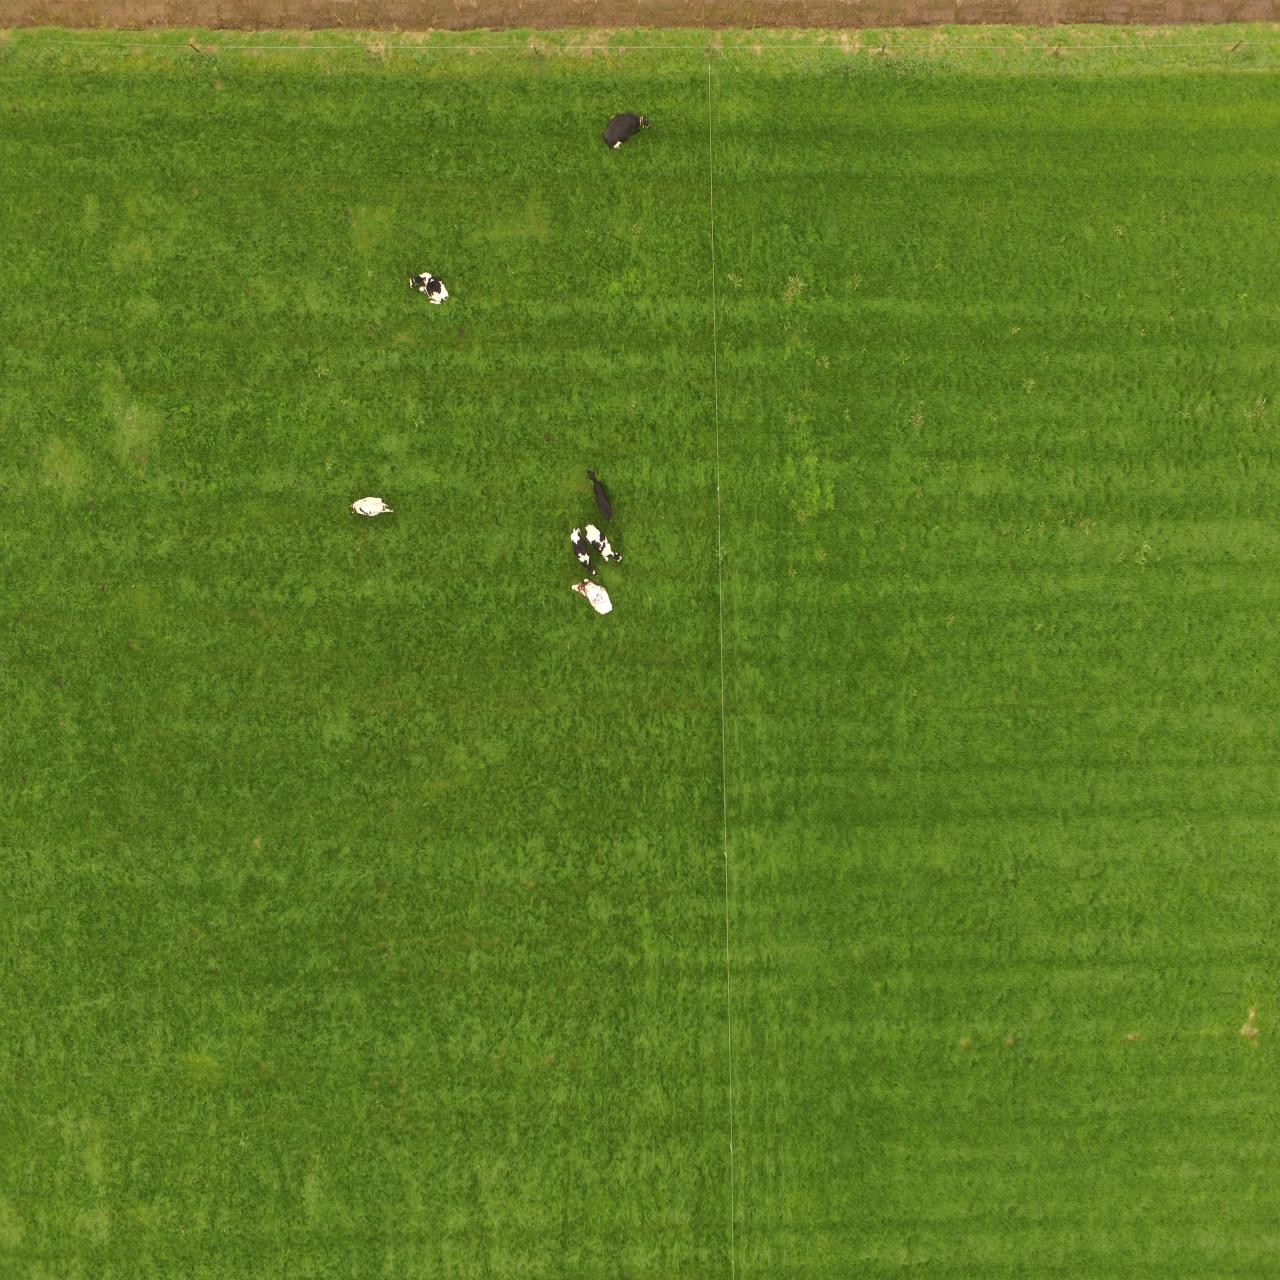cow: (597, 111, 653, 154), (404, 270, 454, 308), (568, 579, 613, 620), (581, 522, 622, 565), (565, 524, 599, 571), (584, 469, 617, 517), (347, 496, 396, 519)
